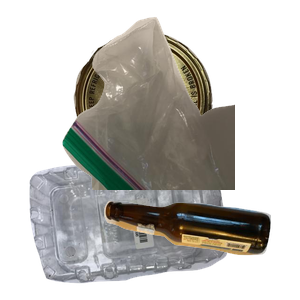glass: (101, 198, 300, 300)
metal: (71, 29, 276, 193)
plastic: (27, 152, 247, 300)
trash: (60, 14, 300, 194)
